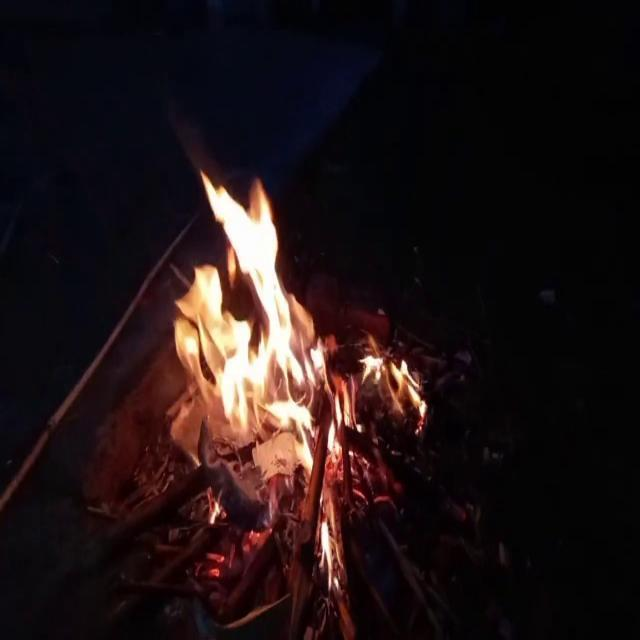Fire: (158, 153, 356, 492), (354, 326, 432, 428)
